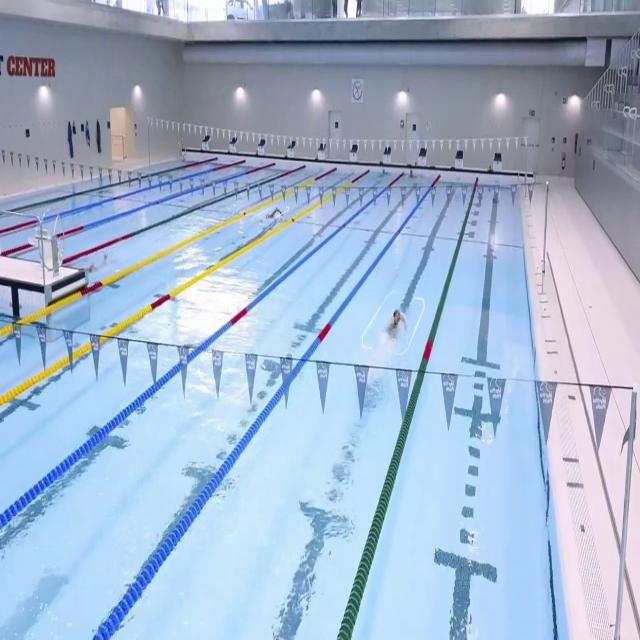Swimming: (387, 308, 408, 344), (84, 253, 115, 273), (266, 206, 285, 221)
